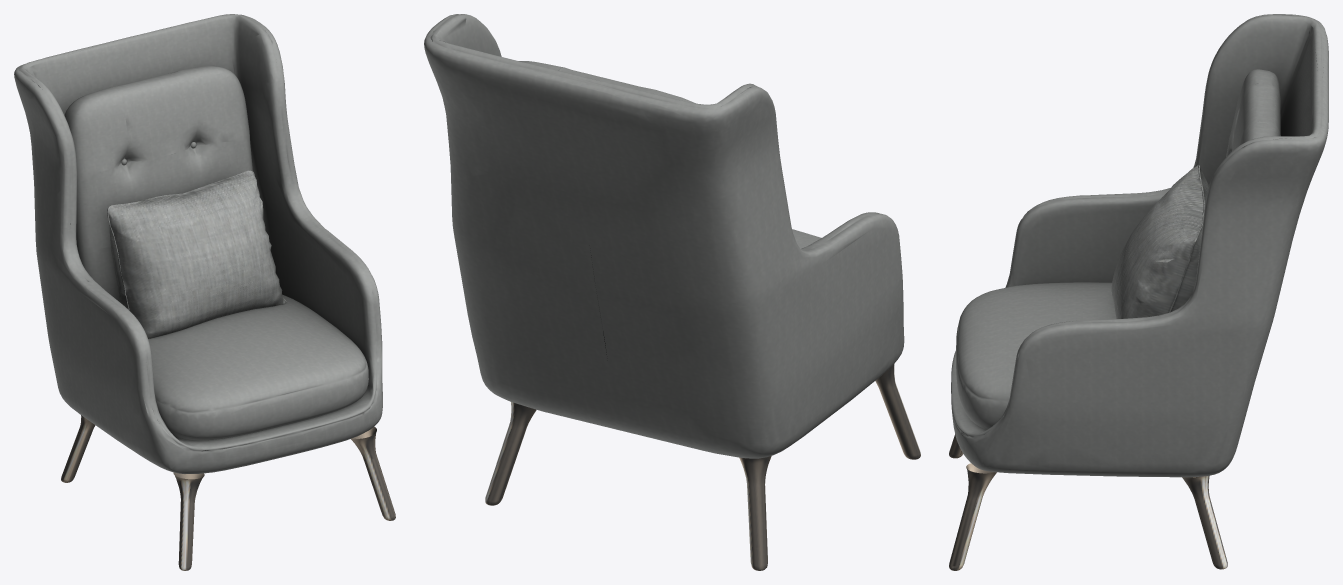
Rendered from raw_model.obj.
3 renders of one model, left to right at view 1: azimuth 30°, elevation 25°; view 2: azimuth 150°, elevation 25°; view 3: azimuth 270°, elevation 25°, orthographic. The views are drawn at different scales.
Parts seen in each view (by area): view 1: solid_002, solid_001; view 2: solid_002, solid_001; view 3: solid_002, solid_001.
Boxes of the visible parts, box(x1,y1,x2,y2) form: solid_002: box(14, 14, 382, 473); solid_001: box(61, 415, 395, 570); solid_002: box(424, 14, 904, 458); solid_001: box(485, 363, 920, 570); solid_002: box(951, 14, 1328, 477); solid_001: box(949, 434, 1227, 570).
Size of the model in its own units: 0.6411 by 0.979 by 0.7714.
1 material, 1 textured.
